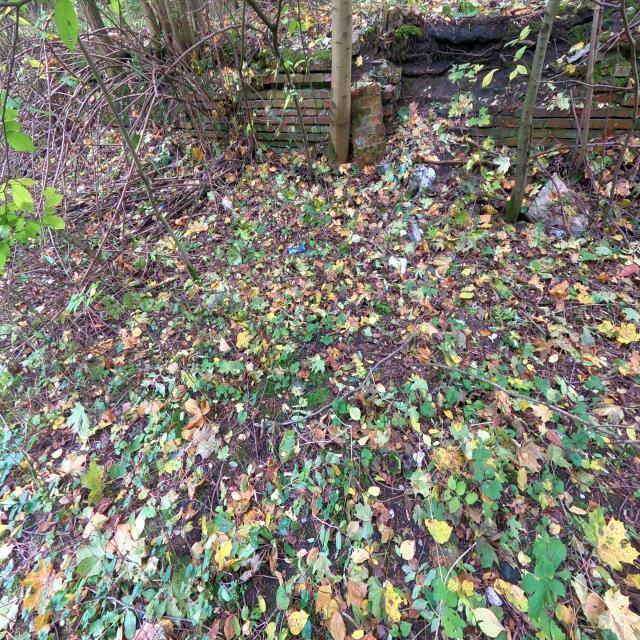rubbish: (412, 163, 437, 199), (386, 254, 408, 277), (393, 163, 408, 183), (288, 242, 306, 256), (411, 224, 424, 241), (550, 229, 567, 239), (348, 233, 363, 243), (403, 233, 416, 243), (400, 201, 416, 209), (157, 204, 165, 211), (580, 494, 584, 499)
